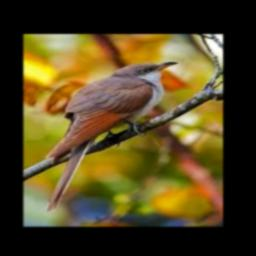Cuckoo: (45, 61, 178, 211)
